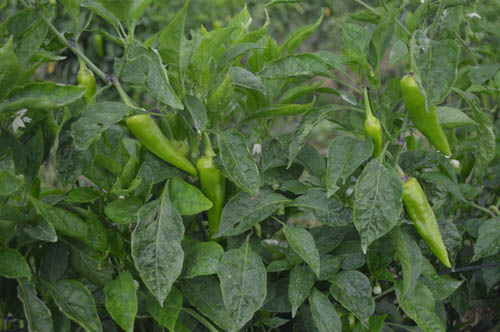ChiliPepper: (402, 76, 455, 153), (126, 111, 190, 173), (404, 183, 450, 264), (192, 155, 222, 228), (359, 119, 386, 154)
